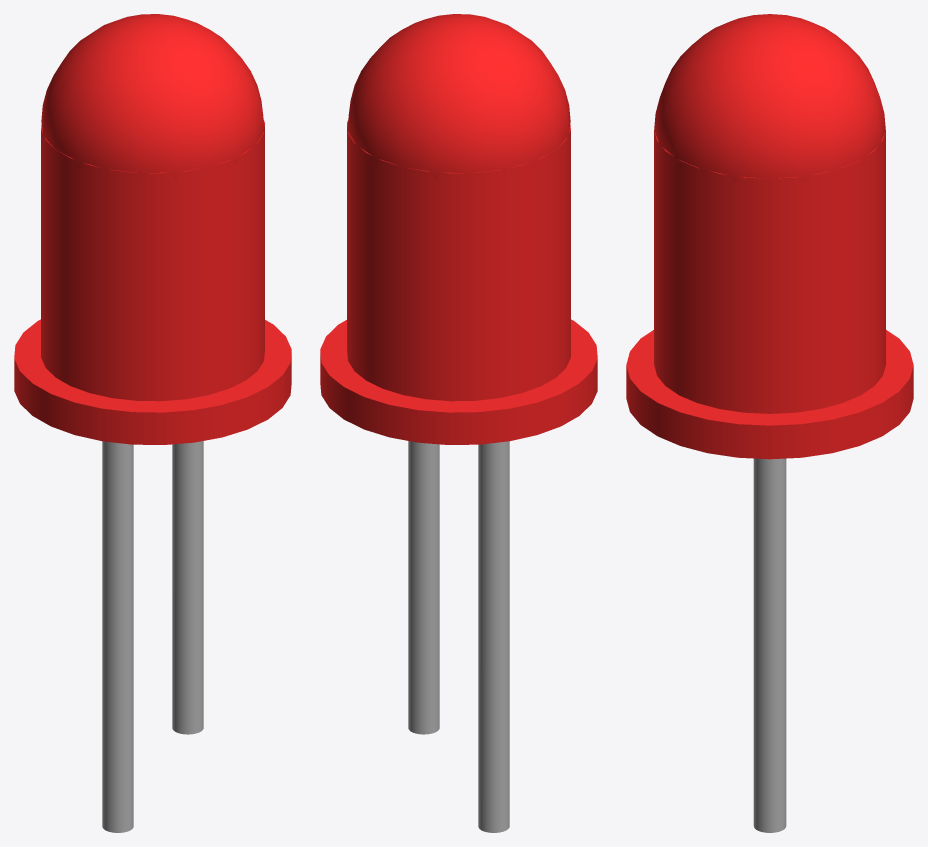
The model's file is led.glb.
3 views of the same model, side by side, from view 1: azimuth 30°, elevation 25°; view 2: azimuth 150°, elevation 25°; view 3: azimuth 270°, elevation 25° (orthographic). The views are drawn at different scales.
Size of the model in its own units: 0.124 by 0.39 by 0.124.
